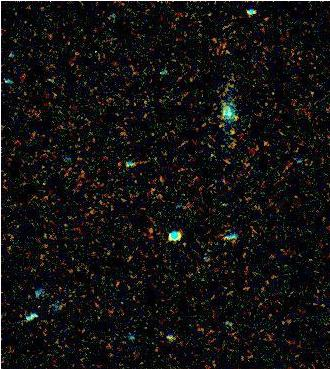star: (215, 118, 245, 148)
